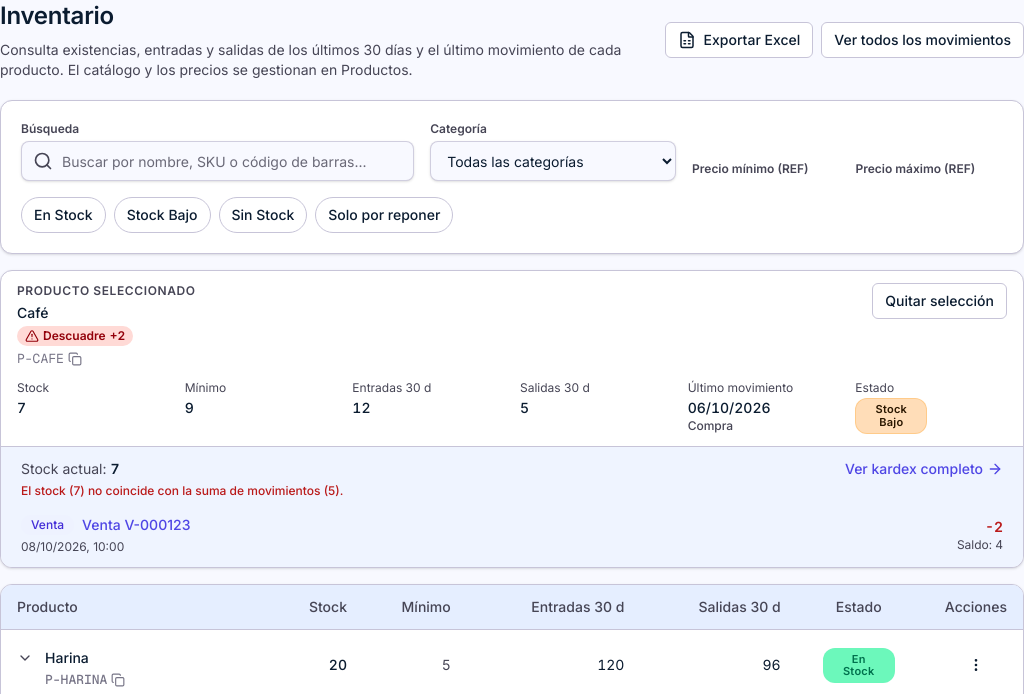
Test: InventoryListPage · vista única de stock › movimientos en línea › replaces the pinned product when a row is expanded
The width and height of the screenshot is (1024, 694).
Expected: the element "Producto seleccionado" is shown, [0,270,1023,568]
Click the button named "Ver movimientos de Harina" at (25, 658), box [9,642,41,674]
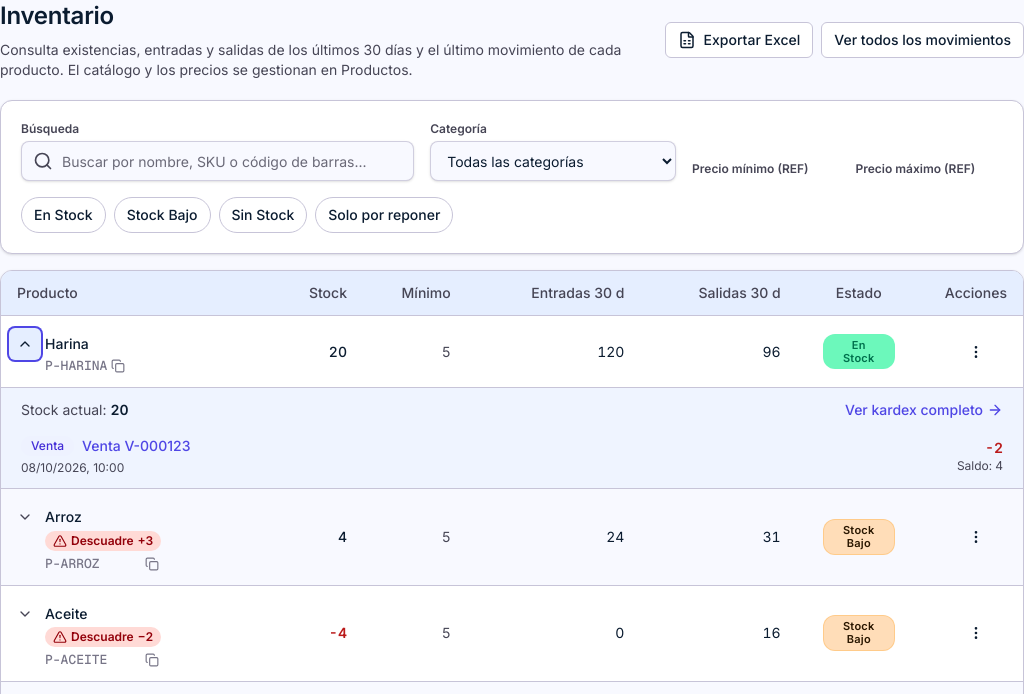
Expected: the heading "Producto seleccionado" is gone
